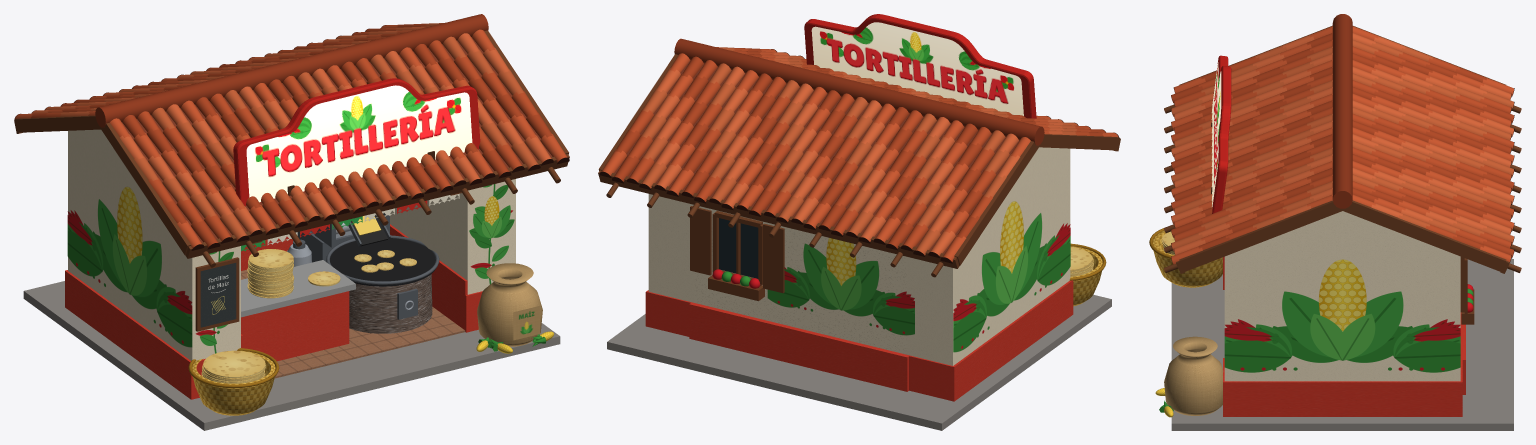
File: tortilleria.glb
3 views of the same model, side by side, from view 1: azimuth 30°, elevation 25°; view 2: azimuth 150°, elevation 25°; view 3: azimuth 270°, elevation 25° (orthographic). The views are drawn at different scales.
Parts seen in each view (by area): view 1: Tortilleria, techo (×2), letrero, muro (×2), costal, canasta, maquina; view 2: Tortilleria, techo (×2), muro (×2), letrero, canasta; view 3: techo (×2), Tortilleria, muro, costal, letrero, canasta.
Boxes of the visible parts, x1,y1,x2,y2 form: Tortilleria: (23, 14, 560, 430); techo (×2): (14, 23, 569, 267); letrero: (233, 78, 480, 205); muro (×2): (68, 129, 515, 360); costal: (477, 263, 542, 346); canasta: (192, 350, 275, 415); maquina: (297, 213, 390, 262); Tortilleria: (607, 38, 1111, 430); techo (×2): (598, 47, 1120, 277); muro (×2): (648, 147, 1070, 365); letrero: (804, 14, 1036, 118); canasta: (1070, 246, 1102, 306); techo (×2): (1164, 25, 1521, 273); Tortilleria: (1149, 14, 1513, 430); muro: (1224, 211, 1460, 381); costal: (1164, 336, 1223, 415); letrero: (1211, 55, 1231, 213); canasta: (1153, 230, 1222, 287).
Size of the model in its own units: 7.1 by 4.92 by 6.31.
58 materials, 26 textured.
